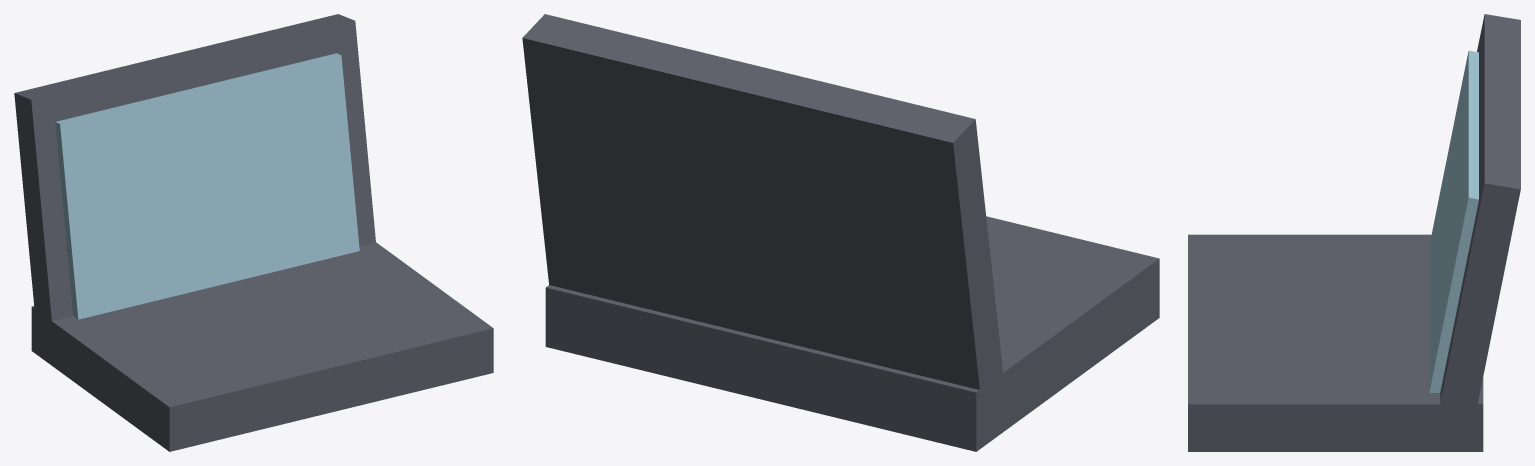
The picture shows the model from 3 angles, left to right: view 1: azimuth 30°, elevation 25°; view 2: azimuth 150°, elevation 25°; view 3: azimuth 270°, elevation 25°; orthographic projection. The views are drawn at different scales.
Visible parts, largest first — view 1: Display, Keyboard, Screen; view 2: Screen, Keyboard; view 3: Keyboard, Screen, Display.
Part boxes in pixels (<box>): Display: <box>55,53,359,319</box>; Keyboard: <box>31,242,493,451</box>; Screen: <box>14,14,375,344</box>; Screen: <box>522,14,1005,411</box>; Keyboard: <box>545,216,1159,451</box>; Keyboard: <box>1188,234,1483,451</box>; Screen: <box>1436,14,1520,433</box>; Display: <box>1429,50,1478,392</box>.
Size of the model in its own units: 0.38 by 0.281 by 0.3155.
